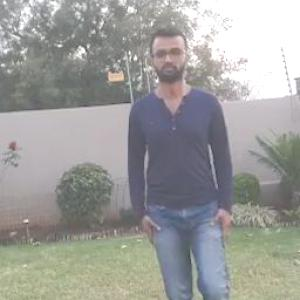follow: (136, 33, 233, 299)
